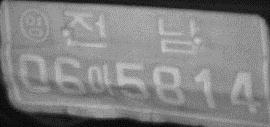0: (18, 53, 50, 95)
1: (192, 67, 225, 109)
4: (229, 72, 260, 113)
5: (115, 62, 150, 100)
6: (52, 55, 85, 96)
8: (153, 65, 185, 105)
아: (87, 64, 113, 98)
영: (18, 8, 50, 43)
전남_D: (63, 9, 200, 54)
